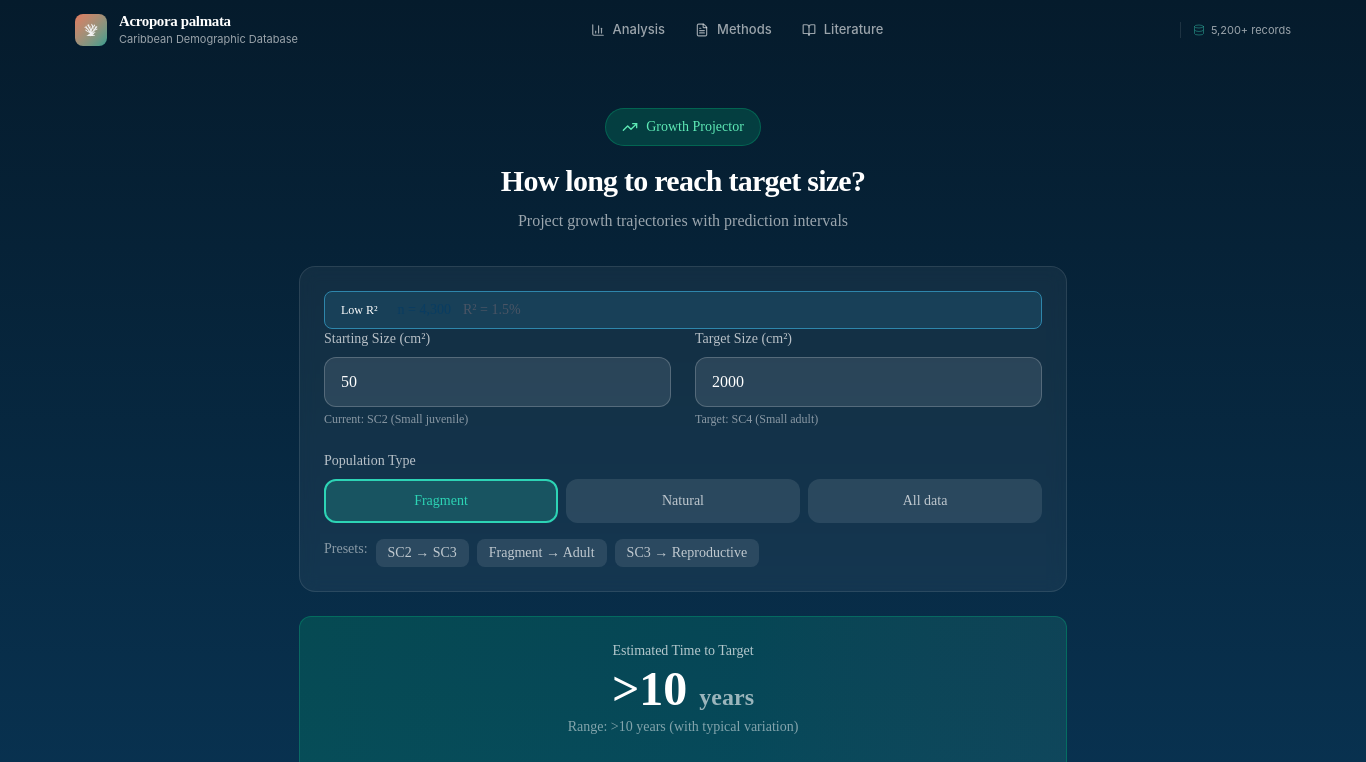
Scenario: GrowthTool › presets › applies SC3 → Reproductive preset
The image size is (1366, 762).
Click the button "SC3 → Reproductive": (687, 552) [615,538,759,566]
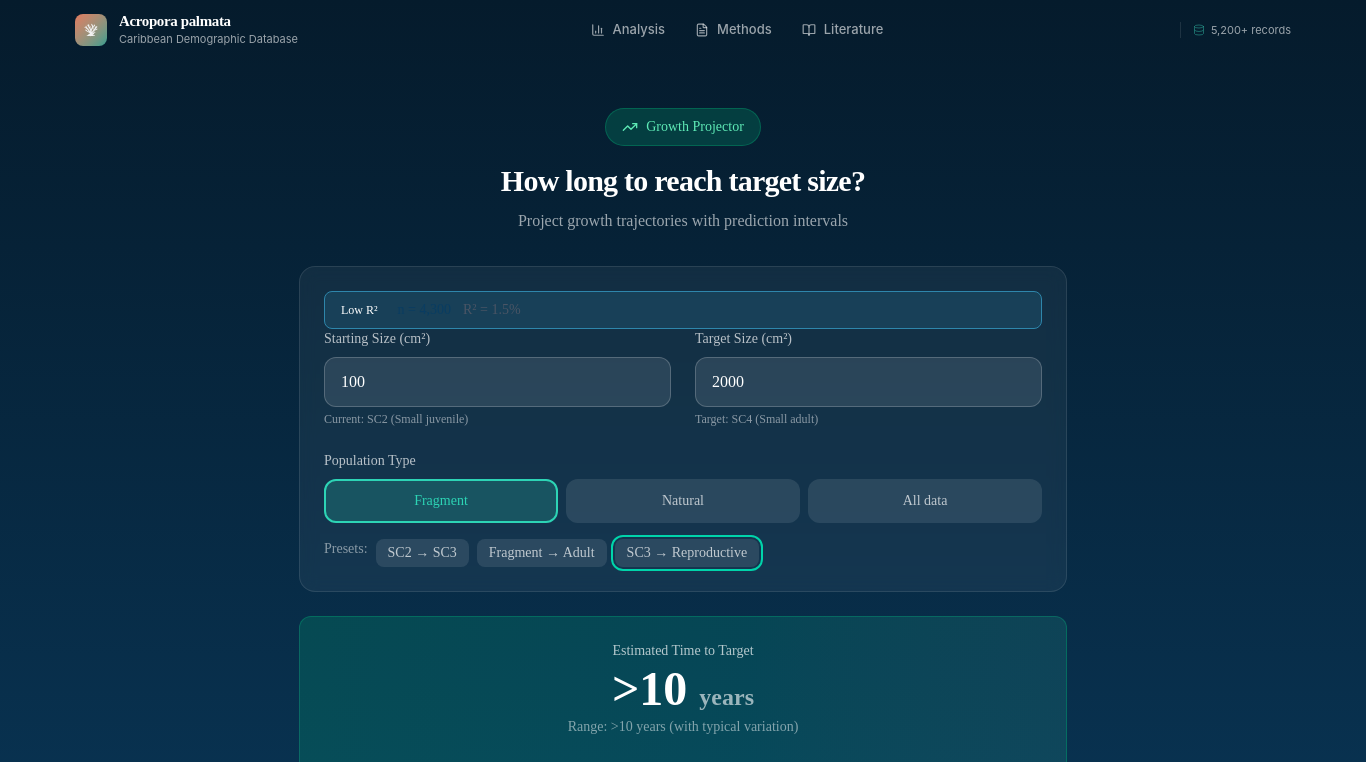
Expected: the number field labelled "Target Size (cm²)" holds "2000", [695,356,1042,406]
Now the number field labelled "Starting Size (cm²)" holds "100", box [324,356,671,406]
